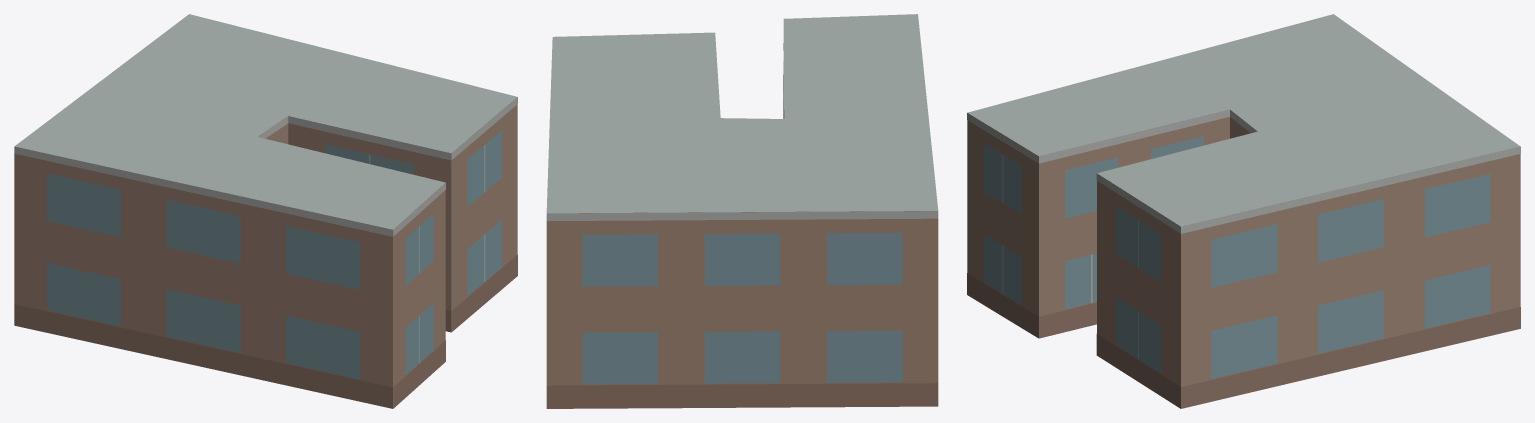
Rendered from survey-upis-32905664.glb.
3 renders of one model, left to right at view 1: azimuth 30°, elevation 25°; view 2: azimuth 150°, elevation 25°; view 3: azimuth 270°, elevation 25°, orthographic. The views are drawn at different scales.
Parts seen in each view (by area): view 1: survey-upis-32905664.tmp; view 2: survey-upis-32905664.tmp; view 3: survey-upis-32905664.tmp.
Part boxes in pixels (x1,y1,x2,y2): survey-upis-32905664.tmp: (14,14,517,408); survey-upis-32905664.tmp: (546,14,938,408); survey-upis-32905664.tmp: (967,14,1520,408).
Bounding box in the file's own units: 15.28 × 6.1 × 16.81.
